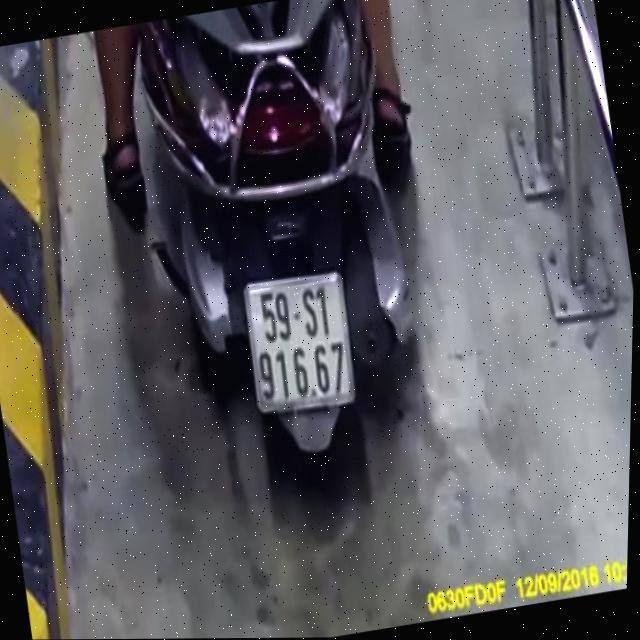motorcycle: (112, 0, 457, 527)
plate: (235, 265, 365, 419)
